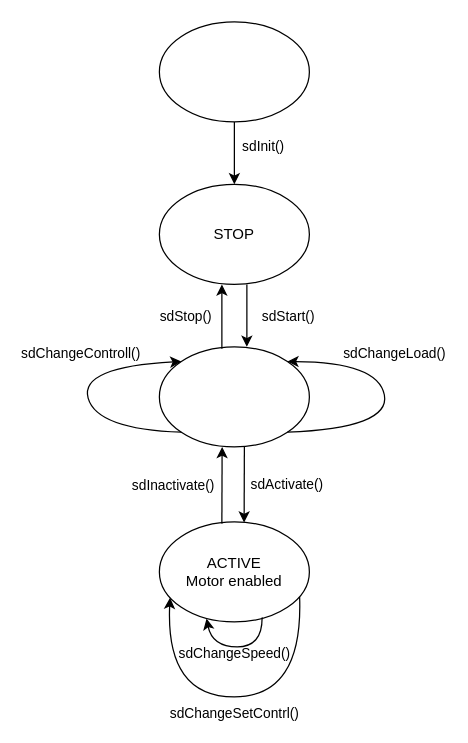
The diagram is 468 pixels wide and 743 high, and some of its shapes have lost their labels. The shapes that lost their labels are listed below. From the top down, each one's centre as x and y in pixels, then its label:
pixel 233 71: UNINIT
pixel 233 396: READY Sensors Enabled
